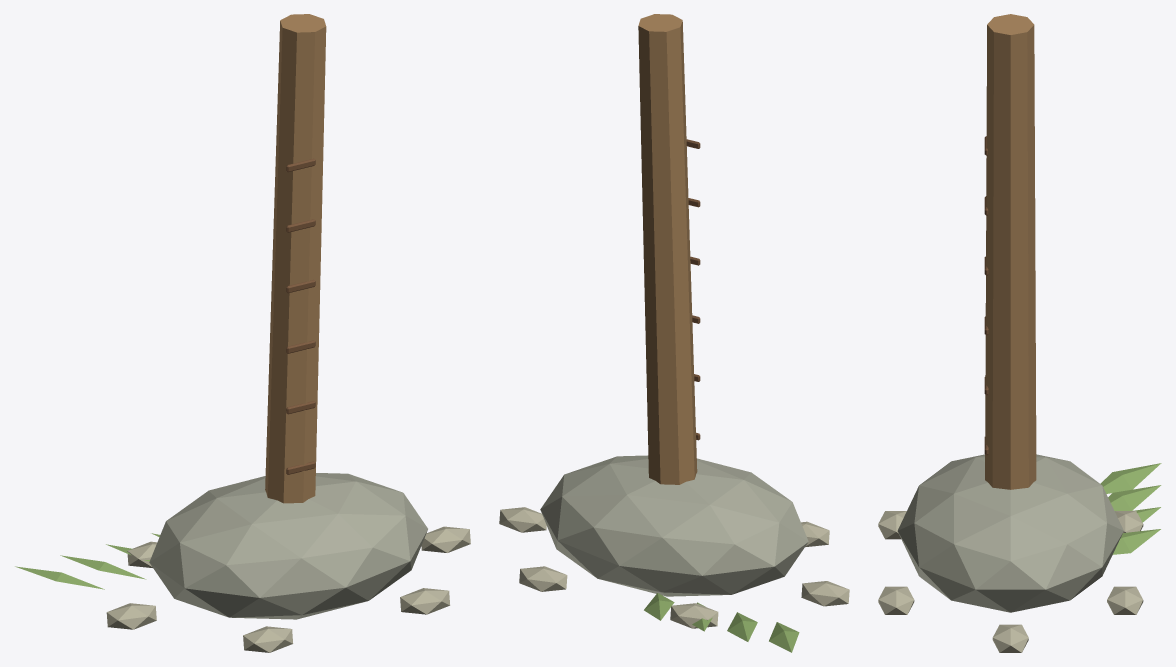
3 renders of one model, left to right at view 1: azimuth 30°, elevation 25°; view 2: azimuth 150°, elevation 25°; view 3: azimuth 270°, elevation 25°, orthographic. The views are drawn at different scales.
Visible parts, largest first — view 1: CE-010 Tide marker and stranded shore detail batched; view 2: CE-010 Tide marker and stranded shore detail batched; view 3: CE-010 Tide marker and stranded shore detail batched.
Part boxes in pixels (bbox=[...]): CE-010 Tide marker and stranded shore detail batched: bbox=[15, 14, 470, 652]; CE-010 Tide marker and stranded shore detail batched: bbox=[499, 14, 849, 652]; CE-010 Tide marker and stranded shore detail batched: bbox=[878, 14, 1161, 652].
Size of the model in its own units: 0.9181 by 1.33 by 0.6008.
